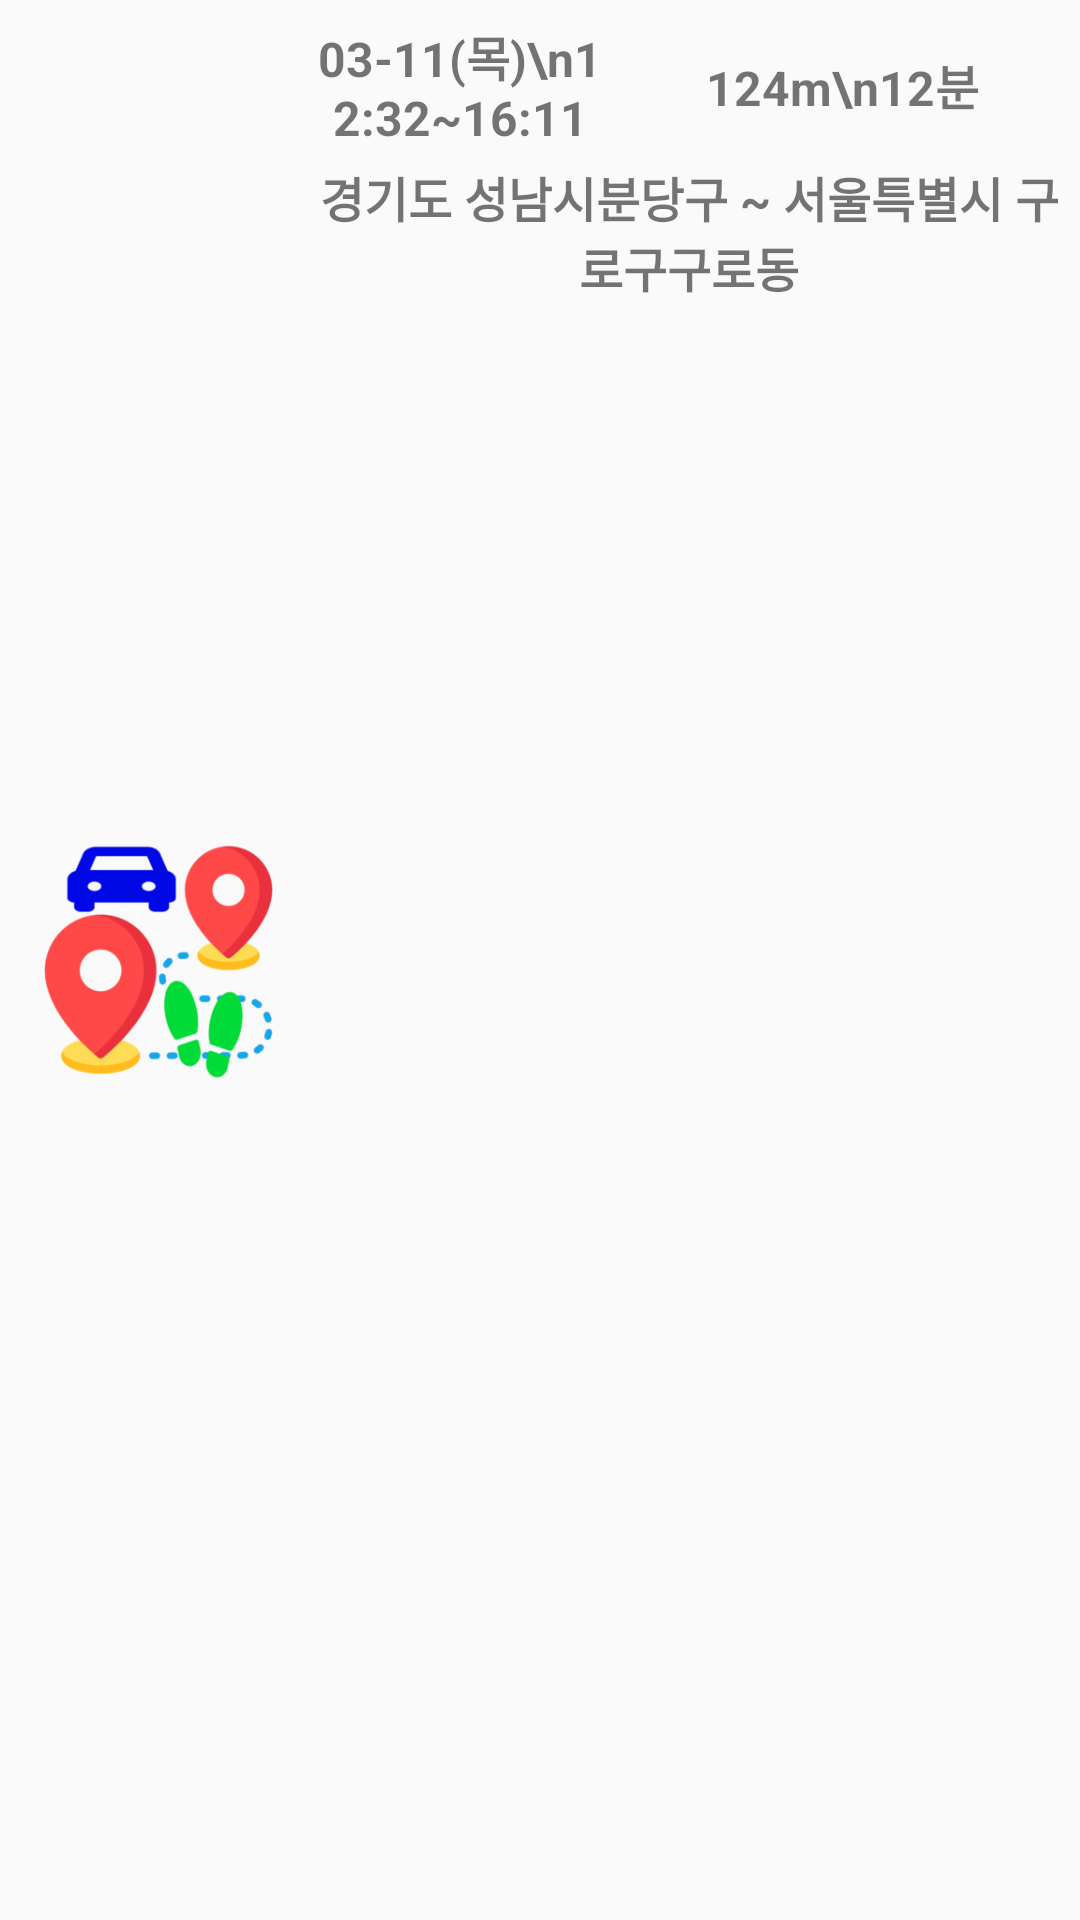

Screen size 1080×1920. Icon name, then its center in pixels as (x=x, y=y):
track log: (x=158, y=961)
